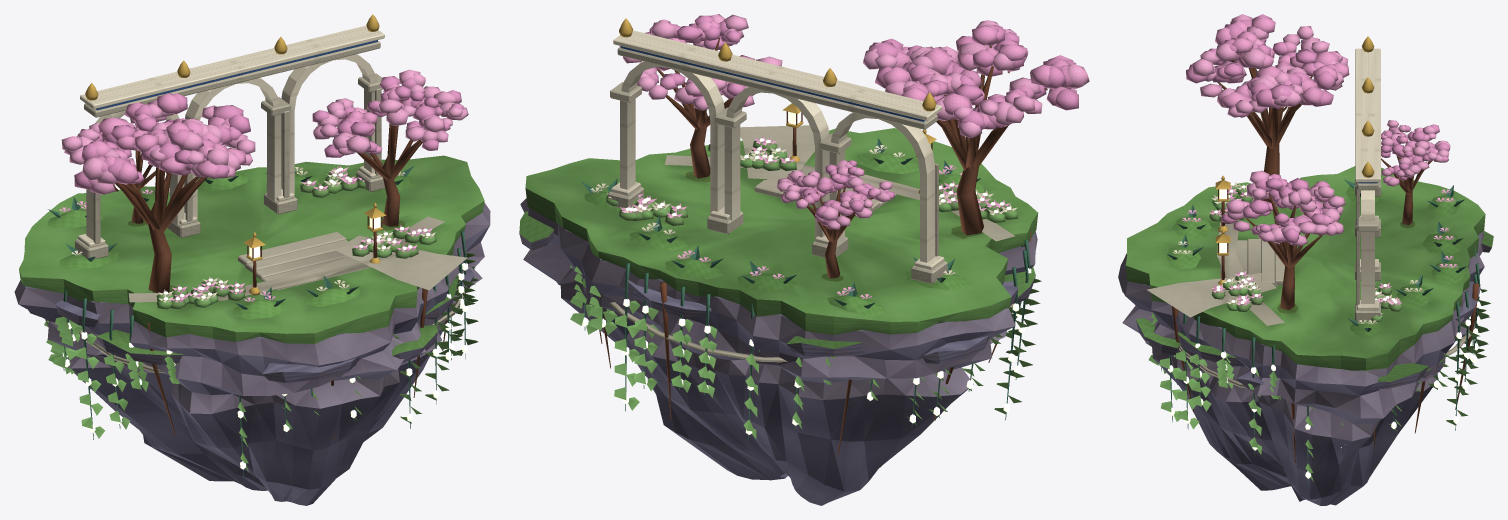
File: sky-garden-final-v1.glb
The picture shows the model from 3 angles, left to right: view 1: azimuth 30°, elevation 25°; view 2: azimuth 150°, elevation 25°; view 3: azimuth 270°, elevation 25°; orthographic projection. The views are drawn at different scales.
Visible parts, largest first — view 1: sky-garden-final-v1; view 2: sky-garden-final-v1; view 3: sky-garden-final-v1.
Part boxes in pixels (bbox=[...]): sky-garden-final-v1: bbox=[14, 14, 490, 505]; sky-garden-final-v1: bbox=[519, 14, 1089, 505]; sky-garden-final-v1: bbox=[1118, 14, 1493, 505].
Size of the model in its own units: 13.69 by 12.14 by 10.63.
10 materials, 10 textured.
